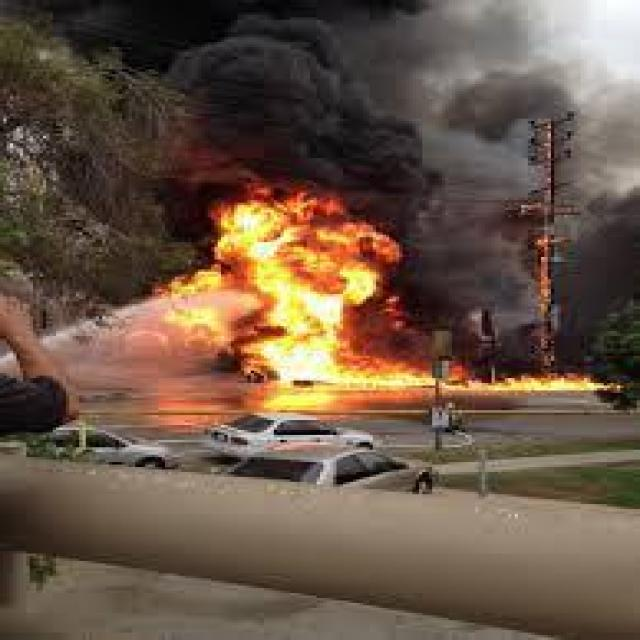fire: (188, 186, 628, 398)
smoke: (117, 4, 485, 171)
